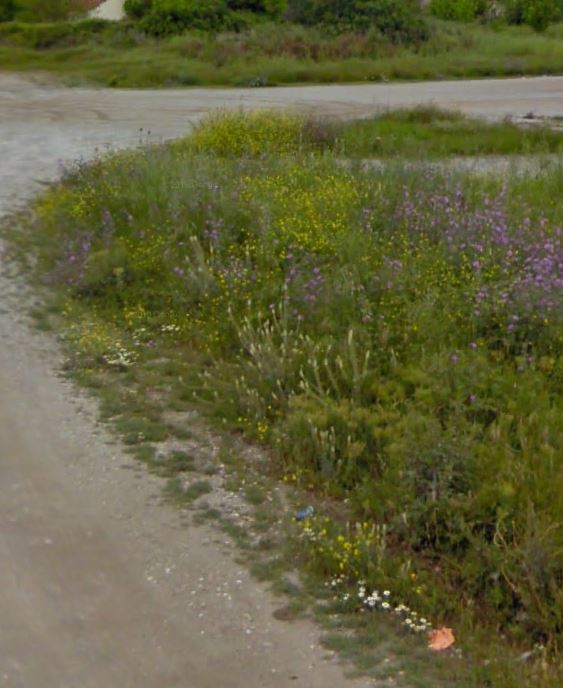trash: (419, 615, 458, 659), (291, 504, 316, 528)
